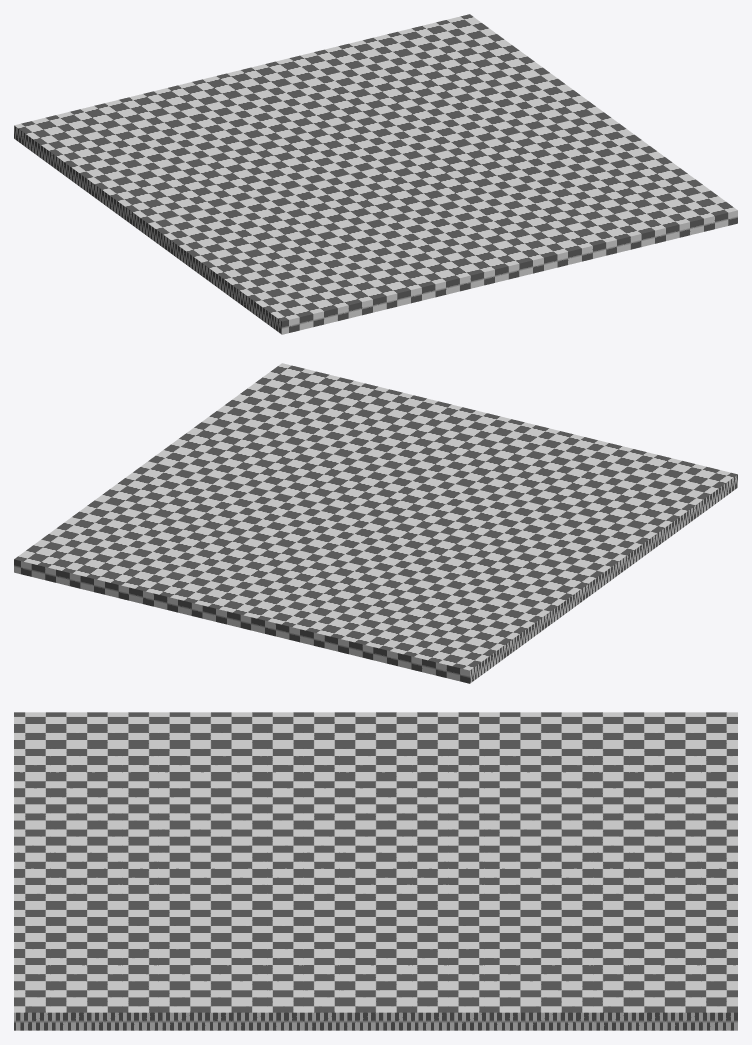
The model's file is Ground.glb.
The picture shows the model from 3 angles, top to bottom: view 1: azimuth 30°, elevation 25°; view 2: azimuth 150°, elevation 25°; view 3: azimuth 270°, elevation 25°; orthographic projection. The views are drawn at different scales.
Parts seen in each view (by area): view 1: Ground; view 2: Ground; view 3: Ground.
Boxes of the visible parts, bbox=[...] form: Ground: bbox=[14, 14, 737, 334]; Ground: bbox=[14, 363, 737, 683]; Ground: bbox=[14, 712, 737, 1030].
Bounding box in the file's own units: 17.05 × 0.4736 × 17.36.
Materials: 1 (1 with a texture image).
